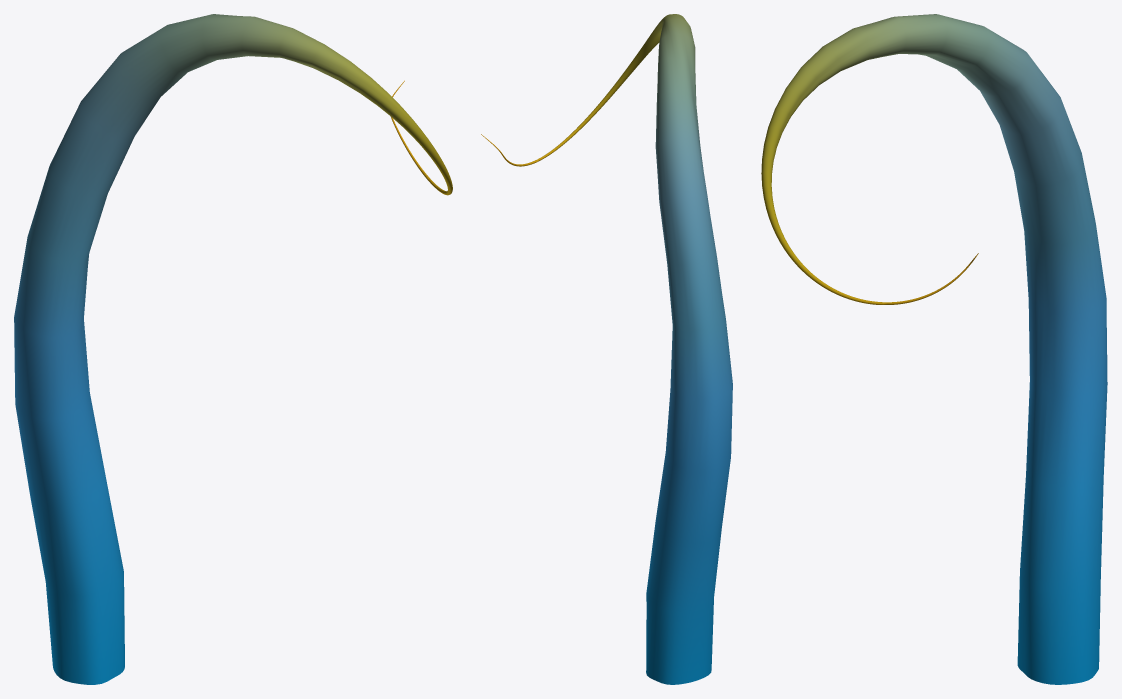
The model's file is Tentacle_D.fbx.
3 renders of one model, left to right at view 1: azimuth 30°, elevation 25°; view 2: azimuth 150°, elevation 25°; view 3: azimuth 270°, elevation 25°, orthographic. The views are drawn at different scales.
Parts seen in each view (by area): view 1: Tentacle_D_LOD0; view 2: Tentacle_D_LOD0; view 3: Tentacle_D_LOD0.
Part boxes in pixels (x1,y1,x2,y2): Tentacle_D_LOD0: (14, 14, 452, 684); Tentacle_D_LOD0: (481, 14, 732, 684); Tentacle_D_LOD0: (761, 14, 1107, 684).
Size of what is drawn, in the model's own units: 20.27 by 39.27 by 17.79.
